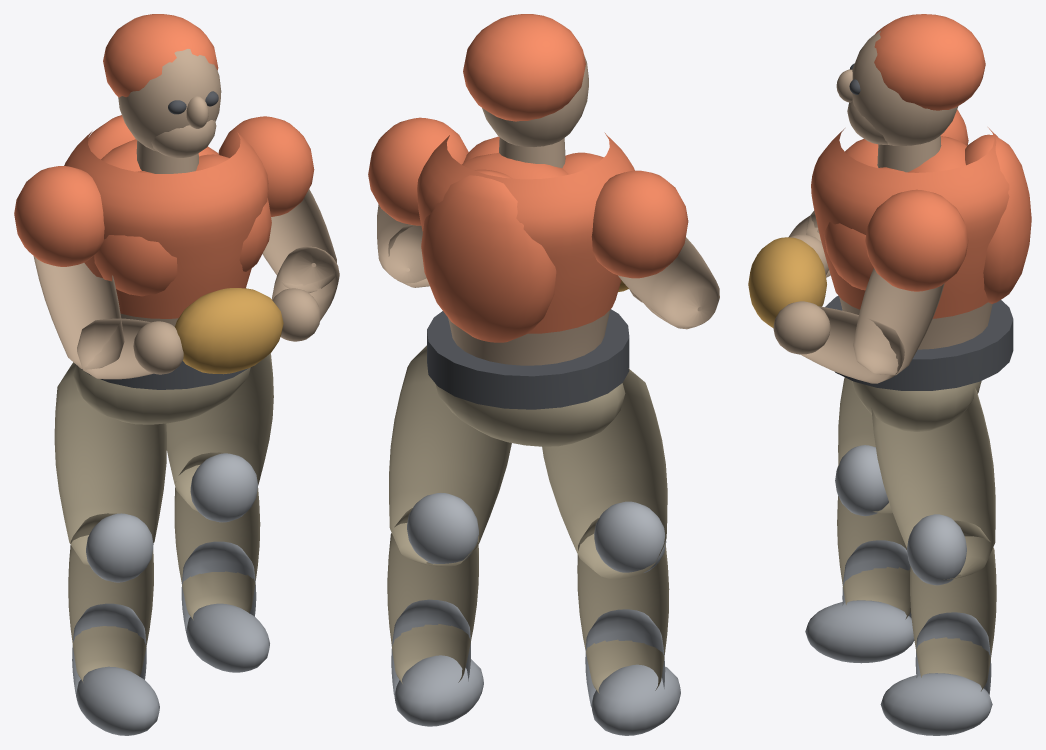
Rendered from terrorist.glb.
3 renders of one model, left to right at view 1: azimuth 30°, elevation 25°; view 2: azimuth 150°, elevation 25°; view 3: azimuth 270°, elevation 25°, orthographic. The views are drawn at different scales.
Parts seen in each view (by area): view 1: Hull; view 2: Hull; view 3: Hull.
Boxes of the visible parts, <box> form: Hull: <box>14,14,339,735</box>; Hull: <box>368,14,719,735</box>; Hull: <box>748,14,1031,735</box>.
Bounding box in the file's own units: 0.4439 × 0.9557 × 0.3634.
